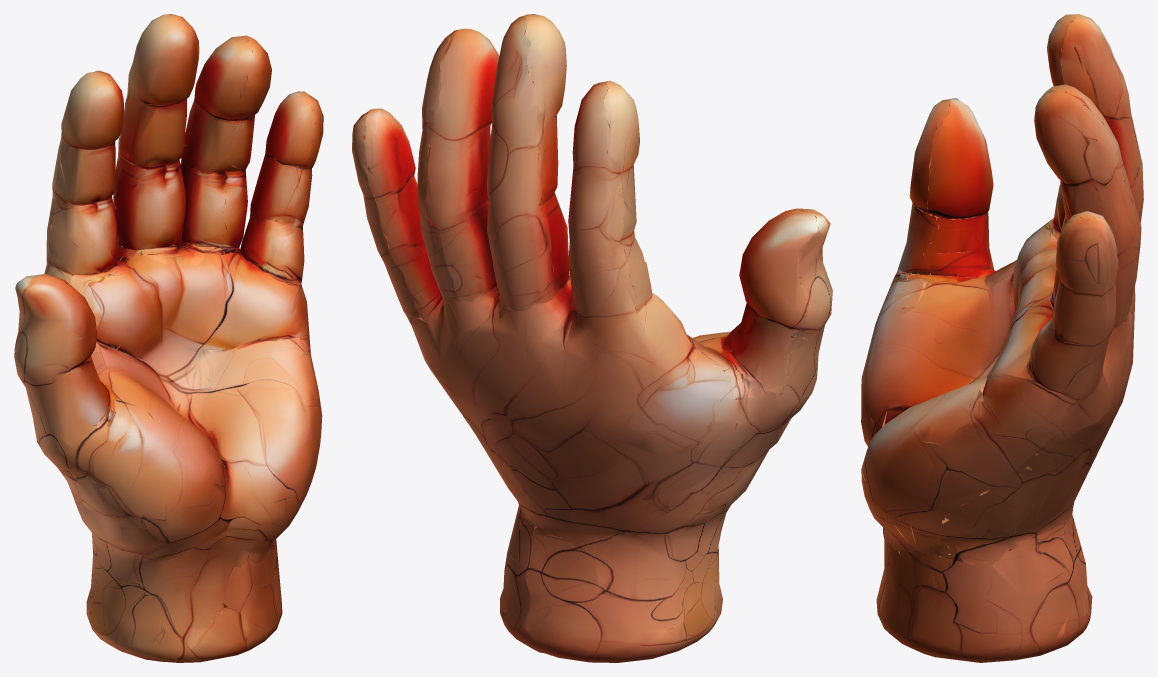
Rendered from terracotta_hand.glb.
3 renders of one model, left to right at view 1: azimuth 30°, elevation 25°; view 2: azimuth 150°, elevation 25°; view 3: azimuth 270°, elevation 25°, orthographic. The views are drawn at different scales.
Parts seen in each view (by area): view 1: model; view 2: model; view 3: model.
Boxes of the visible parts, x1,y1,x2,y2 form: model: (14,14,323,662); model: (352,14,832,662); model: (861,14,1143,662).
Size of the model in its own units: 0.3302 by 0.5 by 0.2056.
Materials: 1 (1 with a texture image).
